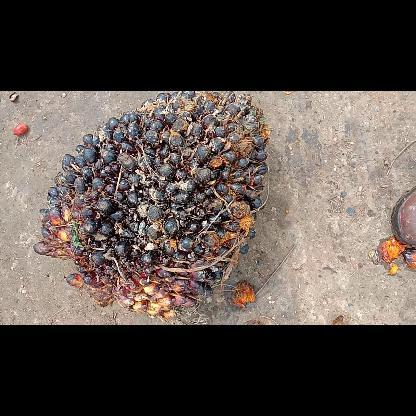TBS mentah: (30, 90, 272, 317)
